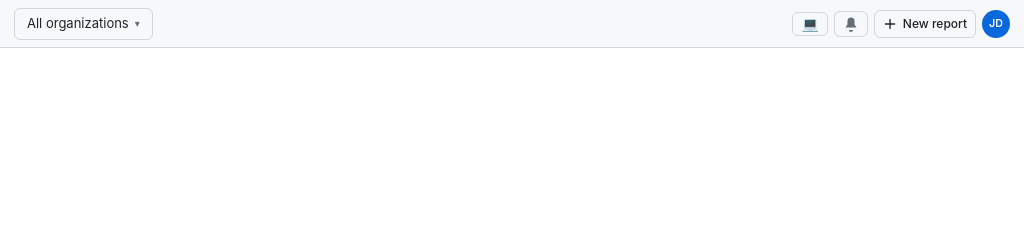
Test: TopBar › announces when no organizations match the filter
Click the button with aria-label "Select organization". click: x=83, y=24
box: top-left (14, 8), bottom-right (153, 40)
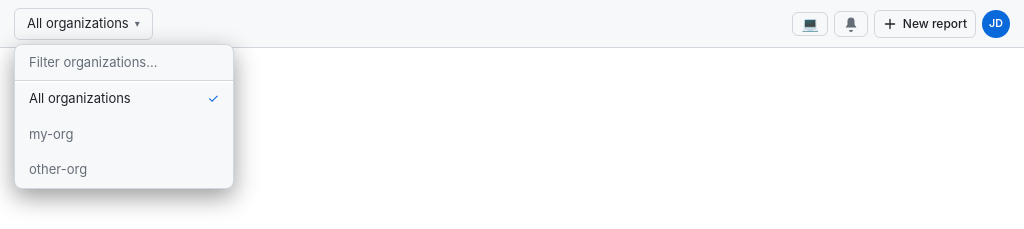
Type "missing-org" into the field labelled "Filter organizations". click: x=124, y=63
box: top-left (15, 44), bottom-right (233, 81)
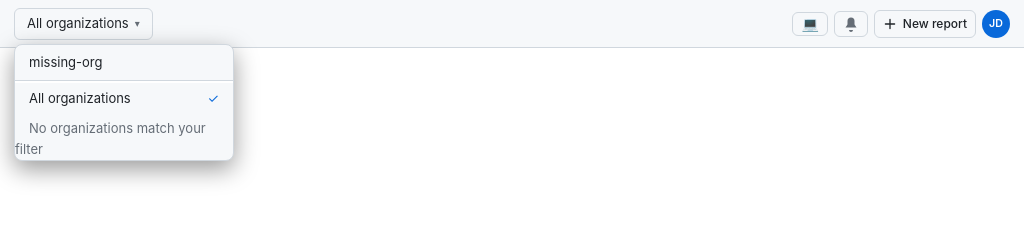
Result: the message reads "No organizations match your filter" at top-left (15, 120), bottom-right (206, 157)
